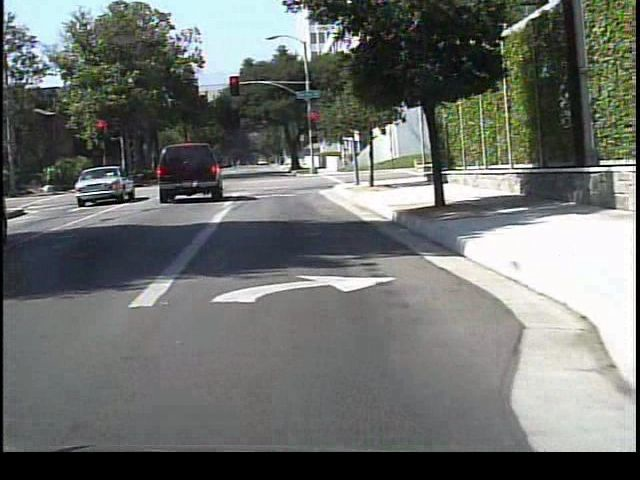person: (338, 145, 353, 173)
